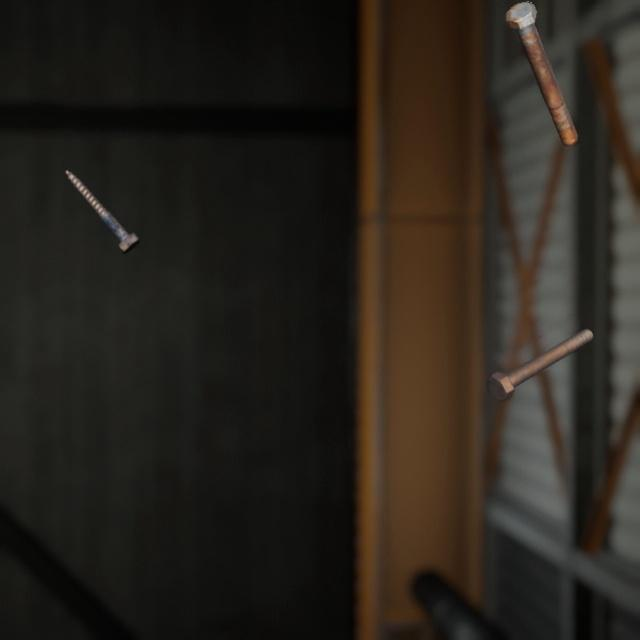bolt: (501, 0, 582, 140), (483, 306, 597, 387), (61, 151, 144, 243)
